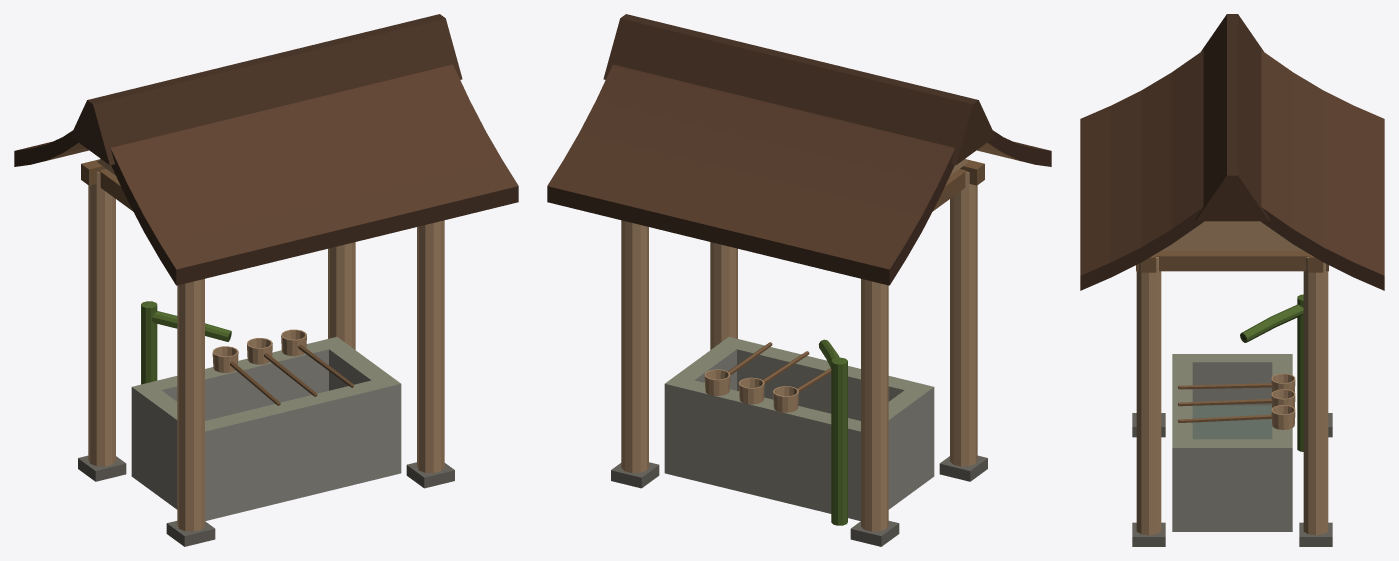
File: Shrine_Chozuya.fbx
3 views of the same model, side by side, from view 1: azimuth 30°, elevation 25°; view 2: azimuth 150°, elevation 25°; view 3: azimuth 270°, elevation 25° (orthographic). The views are drawn at different scales.
Parts seen in each view (by area): view 1: Shrine_Chozuya; view 2: Shrine_Chozuya; view 3: Shrine_Chozuya.
Boxes of the visible parts, bbox=[...] form: Shrine_Chozuya: bbox=[14, 14, 518, 546]; Shrine_Chozuya: bbox=[547, 14, 1051, 546]; Shrine_Chozuya: bbox=[1080, 14, 1384, 546].
Bounding box in the file's own units: 20.6 × 23.2 × 16.4.
